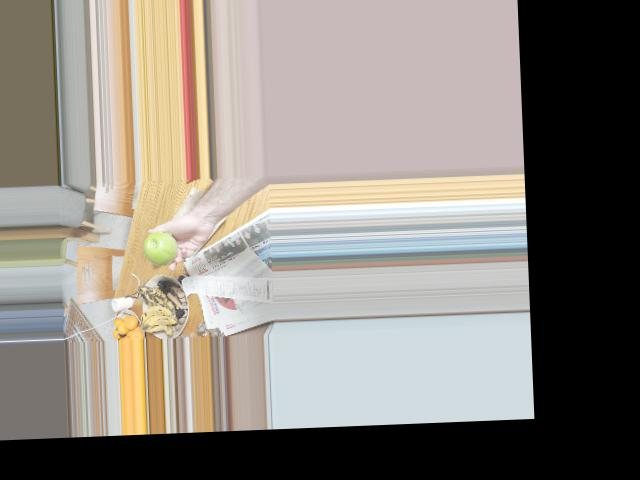apple: (142, 229, 177, 265)
